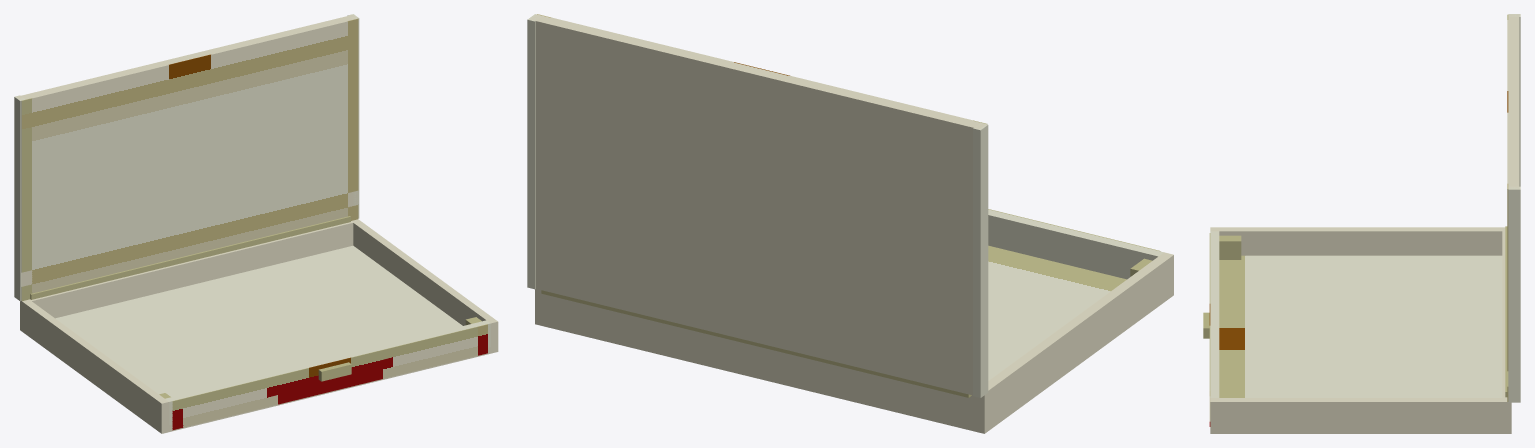
File: CMU3DFoodPizzaBoxCloudOpenStudy.glb
3 renders of one model, left to right at view 1: azimuth 30°, elevation 25°; view 2: azimuth 150°, elevation 25°; view 3: azimuth 270°, elevation 25°, orthographic. The views are drawn at different scales.
Parts seen in each view (by area): view 1: original inner lid and border, original empty tray interior, original front print and closure tab, rear folded rim, left hollow carton wall, right hollow carton wall, upright solid lid, cardboard hinge fold, folded cardboard bottom, front folded rim, open lid left doubled edge, open lid right doubled edge; view 2: upright solid lid, rear folded rim, original empty tray interior, left hollow carton wall, folded cardboard bottom, front folded rim, open lid left doubled edge, open lid right doubled edge, cardboard hinge fold; view 3: original empty tray interior, right hollow carton wall, left hollow carton wall, open lid right doubled edge, folded cardboard bottom, upright solid lid, front folded rim, original inner lid and border, rear folded rim, corner overlap tab 1, cardboard hinge fold, original front print and closure tab (+1 smaller).
Boxes of the visible parts, x1,y1,x2,y2 form: original inner lid and border: (21, 18, 358, 301); original empty tray interior: (55, 245, 462, 396); original front print and closure tab: (172, 324, 487, 430); rear folded rim: (29, 221, 353, 318); left hollow carton wall: (20, 299, 169, 426); right hollow carton wall: (351, 219, 498, 346); upright solid lid: (16, 14, 357, 286); cardboard hinge fold: (30, 216, 350, 299); folded cardboard bottom: (20, 324, 498, 433); front folded rim: (165, 320, 490, 425); open lid left doubled edge: (14, 95, 25, 301); open lid right doubled edge: (347, 14, 359, 218); upright solid lid: (530, 14, 986, 395); rear folded rim: (544, 294, 974, 422); original empty tray interior: (988, 245, 1126, 380); left hollow carton wall: (974, 252, 1173, 424); folded cardboard bottom: (535, 286, 1173, 433); front folded rim: (988, 209, 1163, 279); open lid left doubled edge: (973, 123, 988, 397); open lid right doubled edge: (527, 14, 540, 289); cardboard hinge fold: (541, 290, 971, 397); original empty tray interior: (1219, 255, 1502, 397); right hollow carton wall: (1210, 398, 1511, 426); left hollow carton wall: (1210, 227, 1505, 255); open lid right doubled edge: (1508, 186, 1520, 402); folded cardboard bottom: (1210, 427, 1511, 433); upright solid lid: (1508, 14, 1519, 188); front folded rim: (1210, 231, 1219, 397); original inner lid and border: (1507, 14, 1508, 401); rear folded rim: (1502, 231, 1507, 397); corner overlap tab 1: (1219, 235, 1241, 259); cardboard hinge fold: (1505, 226, 1508, 397); original front print and closure tab: (1209, 233, 1210, 426).
Bounding box in the file's own units: 1.01 × 0.655 × 0.769.
6 materials, 3 textured.
